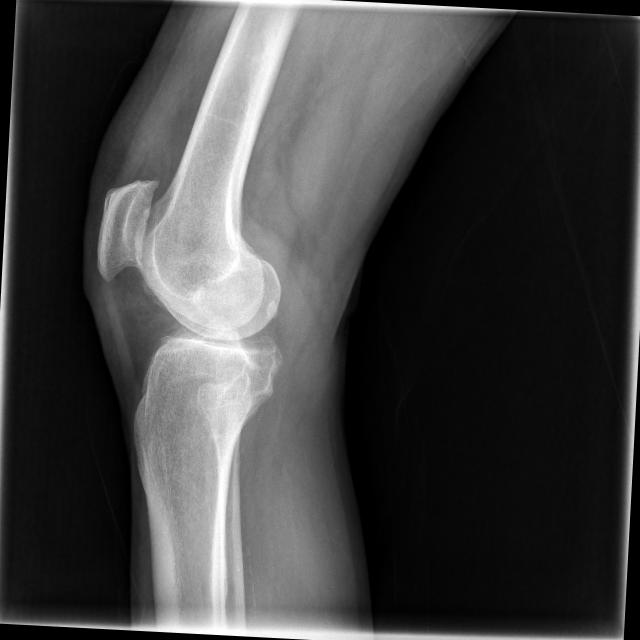Knee: (88, 177, 290, 402)
